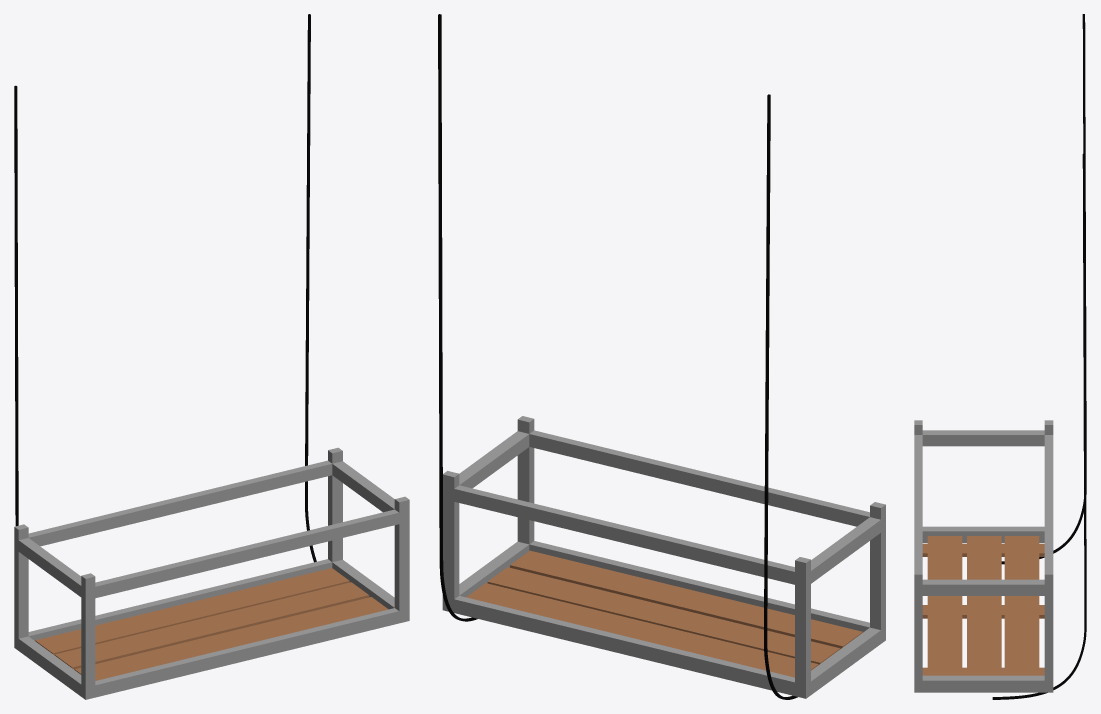
The model's file is scafolding.fbx.
3 renders of one model, left to right at view 1: azimuth 30°, elevation 25°; view 2: azimuth 150°, elevation 25°; view 3: azimuth 270°, elevation 25°, orthographic. The views are drawn at different scales.
Parts seen in each view (by area): view 1: NurbsPath; view 2: NurbsPath; view 3: NurbsPath.
Part boxes in pixels (box(x1,y1,x2,y2)): NurbsPath: box(14, 14, 409, 699); NurbsPath: box(438, 14, 885, 699); NurbsPath: box(914, 14, 1086, 699).
Size of the model in its own units: 6.15 by 10.18 by 2.91.
